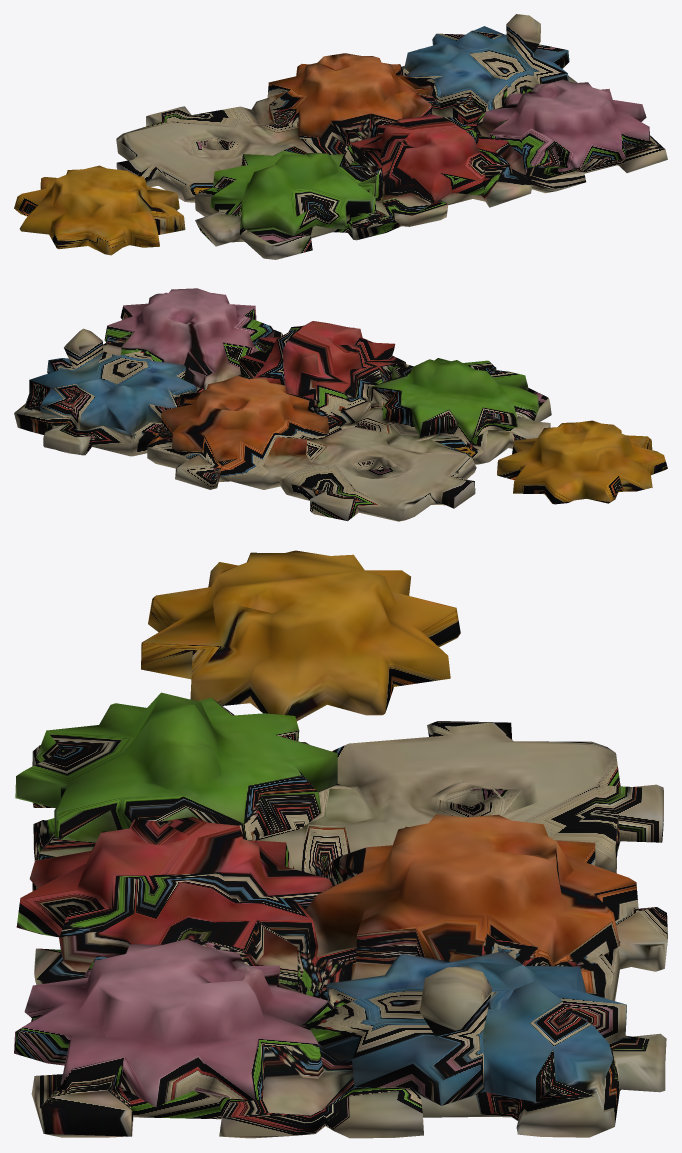
Rendered from gso_gears_puzzles_standard_gcyxhnhhkli.glb.
3 renders of one model, top to bottom at view 1: azimuth 30°, elevation 25°; view 2: azimuth 150°, elevation 25°; view 3: azimuth 270°, elevation 25°, orthographic. The views are drawn at different scales.
Visible parts, largest first — view 1: z-up-to-y-up; view 2: z-up-to-y-up; view 3: z-up-to-y-up.
Part boxes in pixels (left/top/right/bottom): z-up-to-y-up: left=14, top=14, right=667, bottom=259; z-up-to-y-up: left=14, top=288, right=667, bottom=521; z-up-to-y-up: left=14, top=550, right=667, bottom=1138.
Bounding box in the file's own units: 0.3112 × 0.0405 × 0.1604.
Materials: 1 (1 with a texture image).
